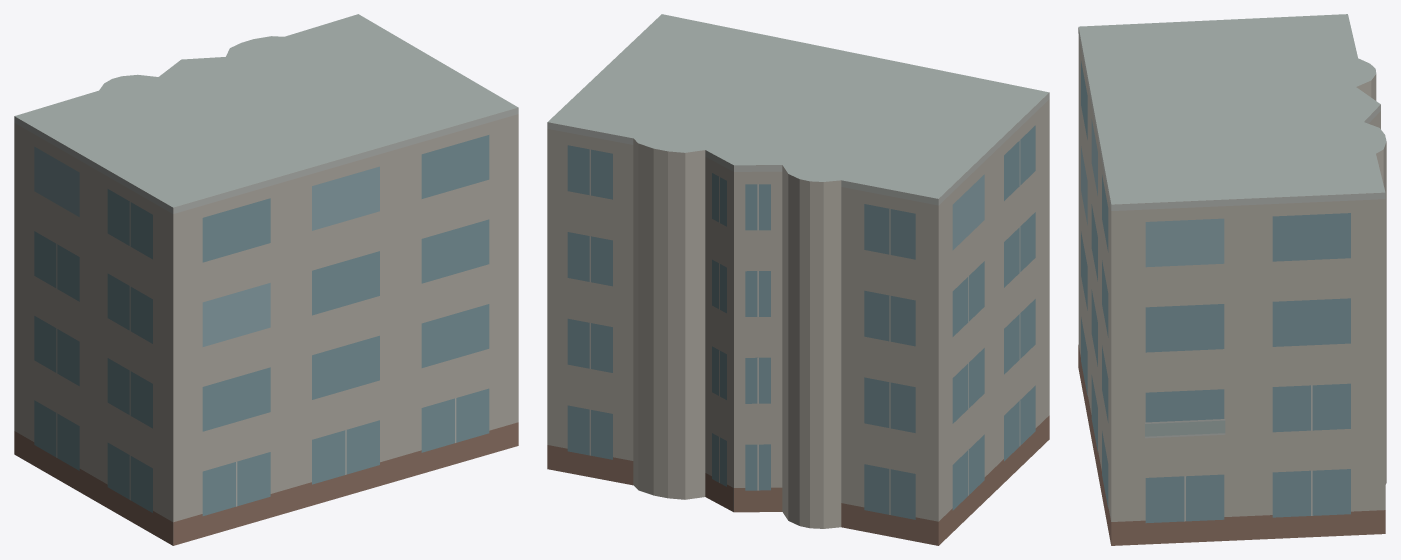
Rendered from survey-upis-33036857.glb.
The picture shows the model from 3 angles, left to right: view 1: azimuth 30°, elevation 25°; view 2: azimuth 150°, elevation 25°; view 3: azimuth 270°, elevation 25°; orthographic projection. The views are drawn at different scales.
Visible parts, largest first — view 1: survey-upis-33036857.tmp; view 2: survey-upis-33036857.tmp; view 3: survey-upis-33036857.tmp.
Boxes of the visible parts, x1=… form: survey-upis-33036857.tmp: x1=14, y1=14, x2=518, y2=545; survey-upis-33036857.tmp: x1=547, y1=14, x2=1049, y2=545; survey-upis-33036857.tmp: x1=1078, y1=14, x2=1386, y2=545.
Size of the model in its own units: 15.22 by 12.7 by 10.4.
